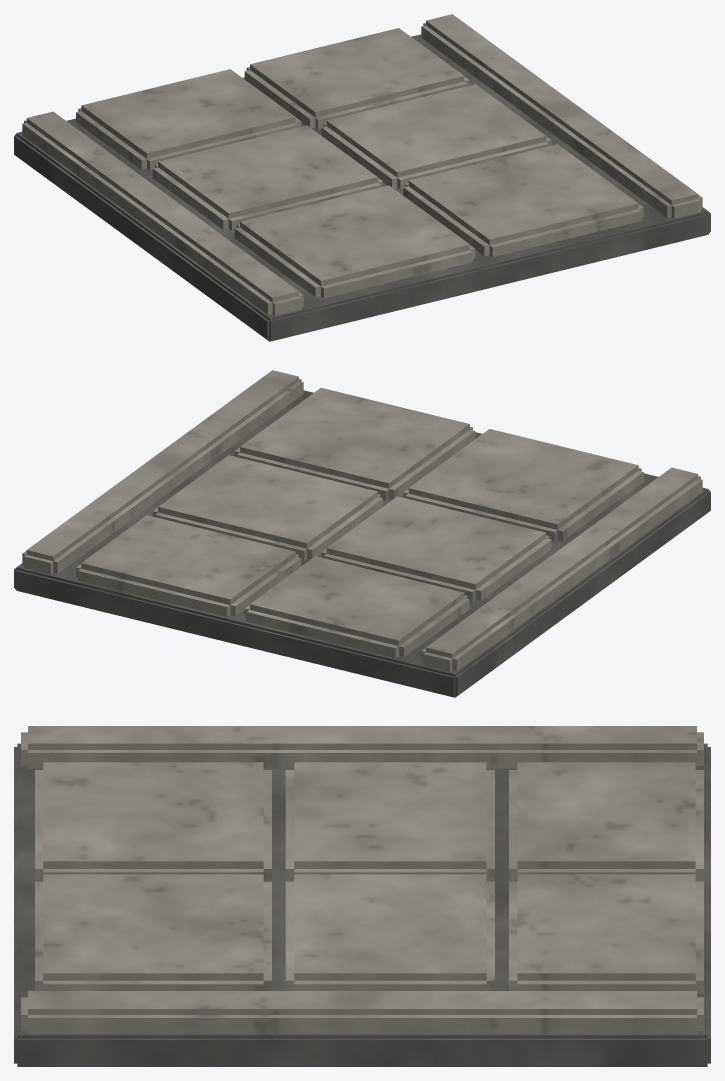
The model's file is road_stone.glb.
3 views of the same model, one above another, from view 1: azimuth 30°, elevation 25°; view 2: azimuth 150°, elevation 25°; view 3: azimuth 270°, elevation 25° (orthographic). The views are drawn at different scales.
Visible parts, largest first — view 1: road_stone; view 2: road_stone; view 3: road_stone.
Boxes of the visible parts, x1,y1,x2,y2 form: road_stone: [14, 14, 710, 341]; road_stone: [14, 370, 710, 697]; road_stone: [14, 726, 710, 1066].
Bounding box in the file's own units: 1 × 0.085 × 1.
2 materials, 2 textured.
